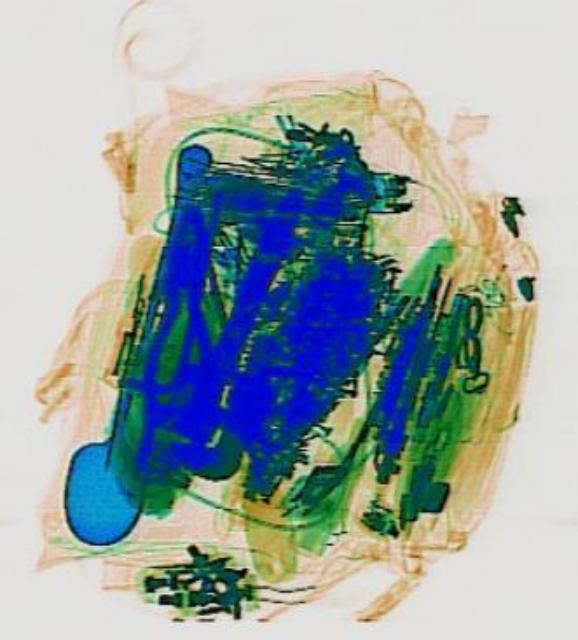Pliers: (131, 198, 226, 468)
